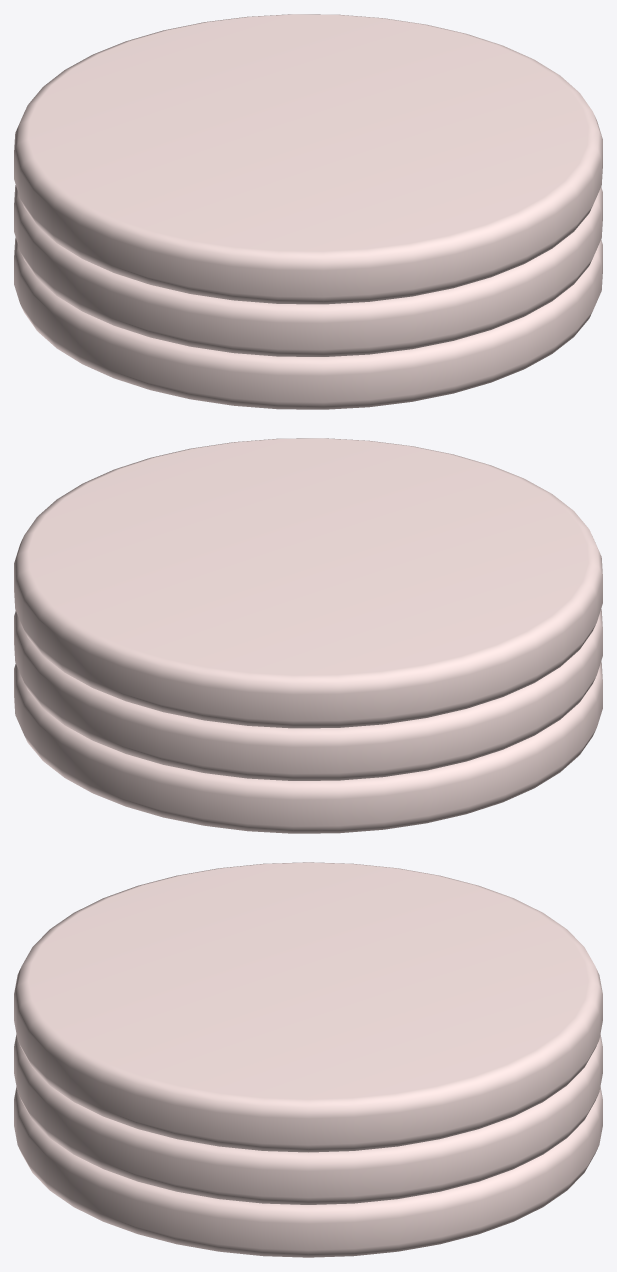
Rendered from Town_14_Hammock_Rope_1.glb.
The picture shows the model from 3 angles, top to bottom: view 1: azimuth 30°, elevation 25°; view 2: azimuth 150°, elevation 25°; view 3: azimuth 270°, elevation 25°; orthographic projection.
Visible parts, largest first — view 1: Town_14_Hammock_Rope_1; view 2: Town_14_Hammock_Rope_1; view 3: Town_14_Hammock_Rope_1.
Part boxes in pixels (x1,y1,x2,y2): Town_14_Hammock_Rope_1: [14, 14, 602, 409]; Town_14_Hammock_Rope_1: [14, 438, 602, 833]; Town_14_Hammock_Rope_1: [14, 862, 602, 1257].
Bounding box in the file's own units: 0.9366 × 0.2768 × 0.9366.
Materials: 1 (1 with a texture image).
